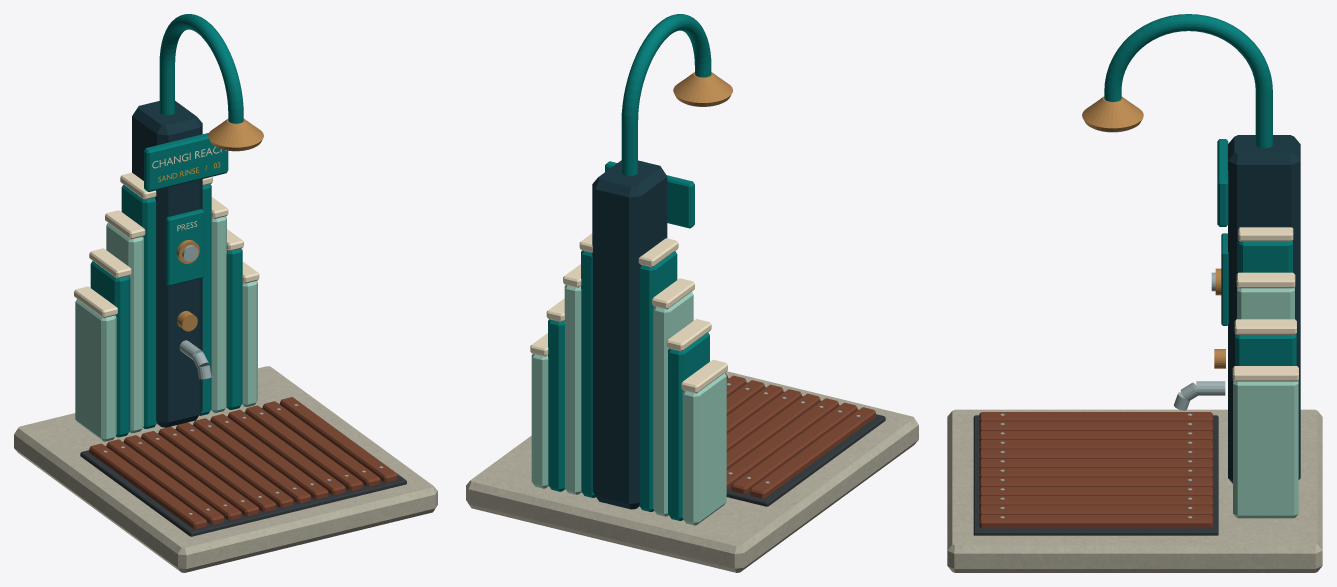
The picture shows the model from 3 angles, left to right: view 1: azimuth 30°, elevation 25°; view 2: azimuth 150°, elevation 25°; view 3: azimuth 270°, elevation 25°; orthographic projection. The views are drawn at different scales.
Visible parts, largest first — view 1: Terraced ceramic fins, Removable chengal slats, Catchment tray, Mixer column, Enamel shower riser, Fin caps, Park nameplate, Drain recess, Porcelain escutcheon, Bell shower rose, Foot rinse spout; view 2: Terraced ceramic fins, Catchment tray, Mixer column, Removable chengal slats, Fin caps, Enamel shower riser, Drain recess, Bell shower rose, Park nameplate; view 3: Removable chengal slats, Catchment tray, Terraced ceramic fins, Mixer column, Enamel shower riser, Fin caps, Drain recess, Bell shower rose, Park nameplate, Foot rinse spout, Porcelain escutcheon.
Boxes of the visible parts, x1,y1,x2,y2 form: Terraced ceramic fins: [75, 184, 257, 441]; Removable chengal slats: [89, 397, 397, 529]; Catchment tray: [14, 366, 437, 572]; Mixer column: [132, 101, 202, 427]; Enamel shower riser: [159, 14, 243, 123]; Fin caps: [74, 172, 259, 317]; Park nameplate: [144, 133, 228, 191]; Drain recess: [80, 403, 406, 536]; Porcelain escutcheon: [166, 209, 204, 285]; Bell shower rose: [208, 118, 263, 150]; Foot rinse spout: [179, 340, 211, 379]; Terraced ceramic fins: [531, 250, 726, 525]; Catchment tray: [466, 371, 918, 572]; Mixer column: [592, 160, 667, 509]; Removable chengal slats: [725, 373, 875, 498]; Fin caps: [530, 233, 727, 393]; Enamel shower riser: [621, 14, 711, 175]; Drain recess: [726, 378, 885, 506]; Bell shower rose: [673, 72, 732, 106]; Park nameplate: [605, 161, 694, 228]; Removable chengal slats: [979, 412, 1212, 528]; Catchment tray: [947, 409, 1322, 572]; Terraced ceramic fins: [1233, 240, 1298, 518]; Mixer column: [1228, 135, 1300, 483]; Enamel shower riser: [1104, 14, 1272, 148]; Fin caps: [1232, 227, 1298, 381]; Drain recess: [973, 415, 1218, 535]; Bell shower rose: [1082, 96, 1143, 131]; Park nameplate: [1217, 139, 1228, 226]; Foot rinse spout: [1174, 381, 1225, 410]; Porcelain escutcheon: [1221, 233, 1228, 325].
Bounding box in the file's own units: 1.5 × 2.45 × 1.7.
10 materials, 1 textured.
